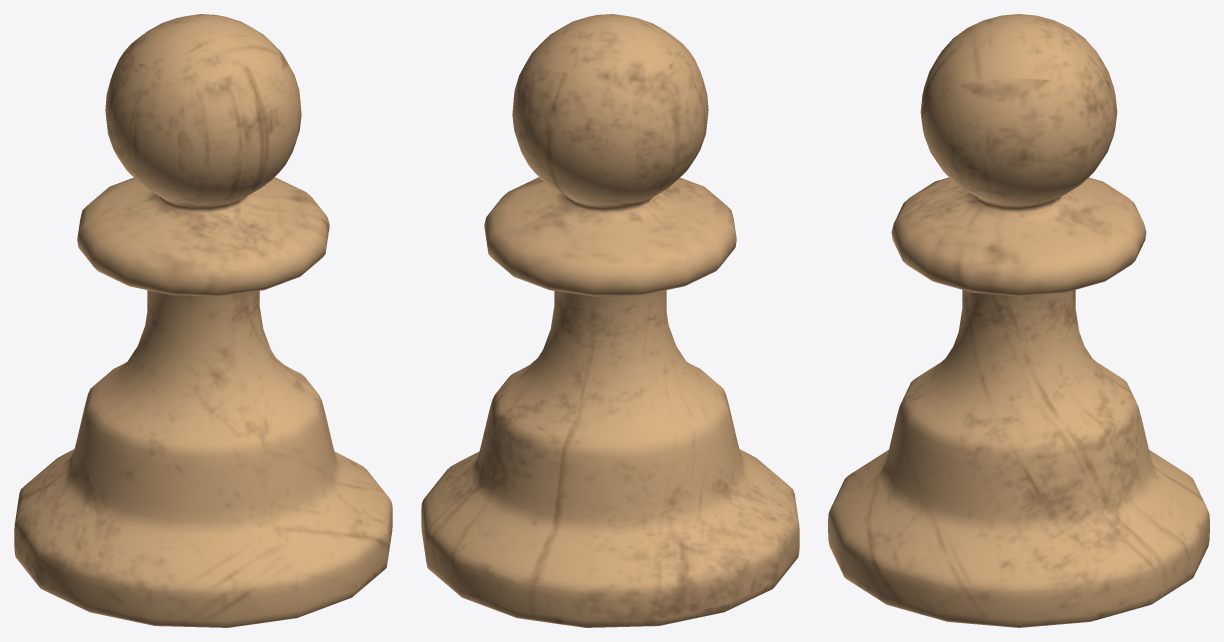
File: GEO_WhitePawn.obj
The picture shows the model from 3 angles, left to right: view 1: azimuth 30°, elevation 25°; view 2: azimuth 150°, elevation 25°; view 3: azimuth 270°, elevation 25°; orthographic projection.
Visible parts, largest first — view 1: GEO_WhitePawn_08; view 2: GEO_WhitePawn_08; view 3: GEO_WhitePawn_08.
Boxes of the visible parts, <box> form: GEO_WhitePawn_08: <box>14,14,392,627</box>; GEO_WhitePawn_08: <box>421,14,799,627</box>; GEO_WhitePawn_08: <box>828,14,1209,627</box>.
Size of the model in its own units: 0.034 by 0.0518 by 0.034.
